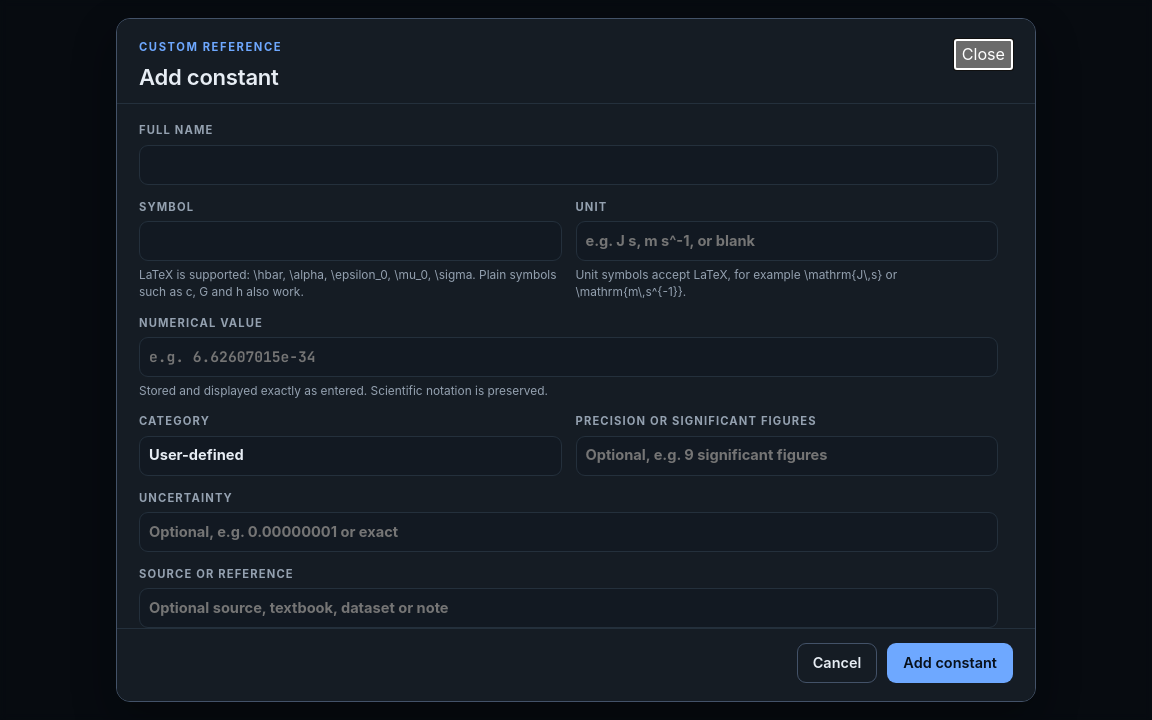
Test: ConstantEditor › maps a backend value error to the numerical value field
This screenshot has width=1152, height=720.
Type "Planck constant (local)" into the field labelled "Full name". click: point(568, 165)
box: top-left (139, 145), bottom-right (998, 185)
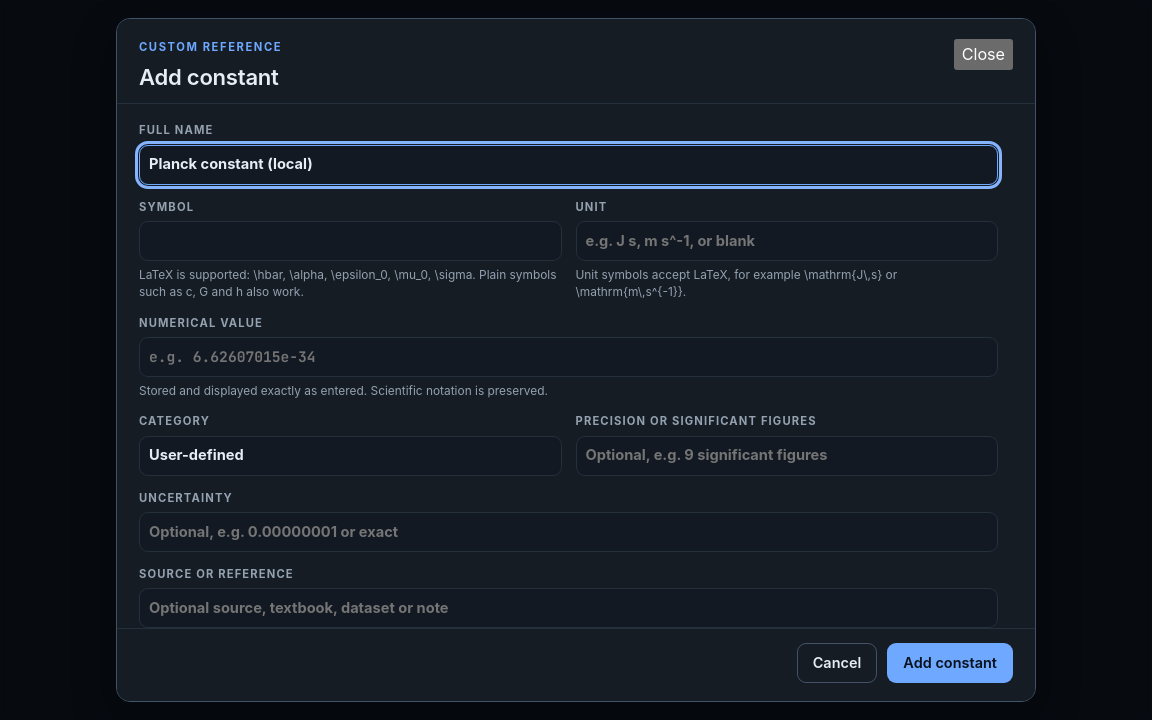
Type "h" into the field labelled "Symbol". click: point(350, 241)
box: top-left (139, 221), bottom-right (562, 261)
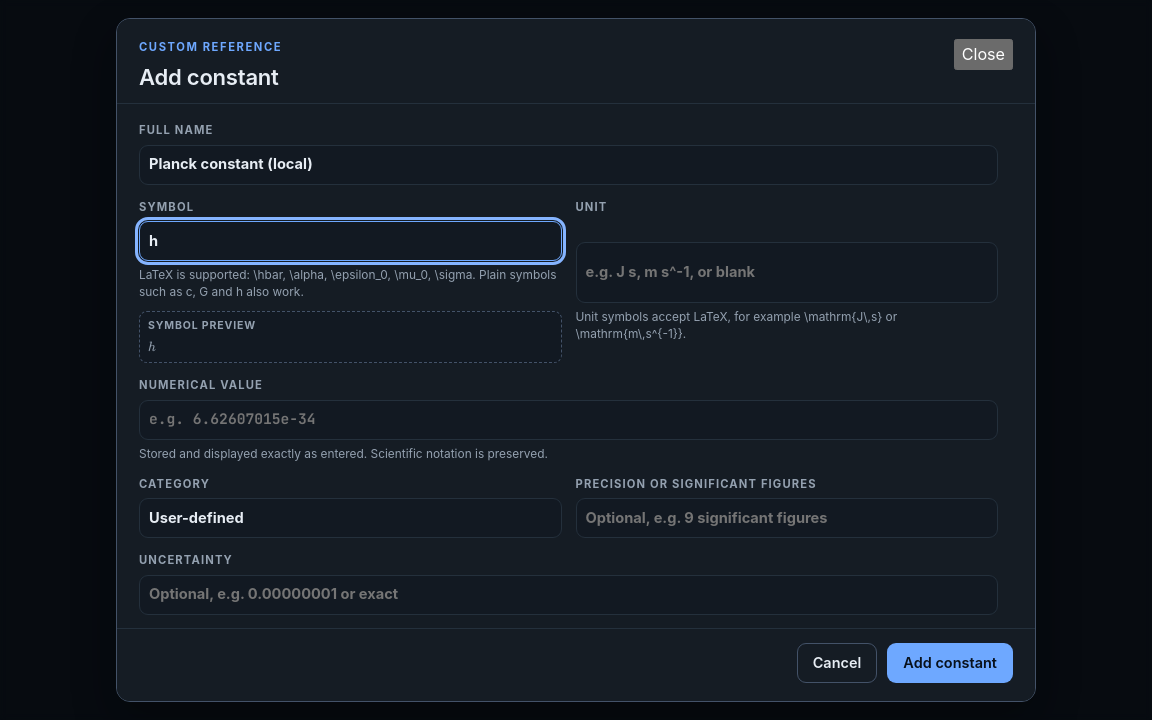
Replace the text in the field labelled "Category" with "Fundamental". click: point(350, 518)
box: top-left (139, 498), bottom-right (562, 538)
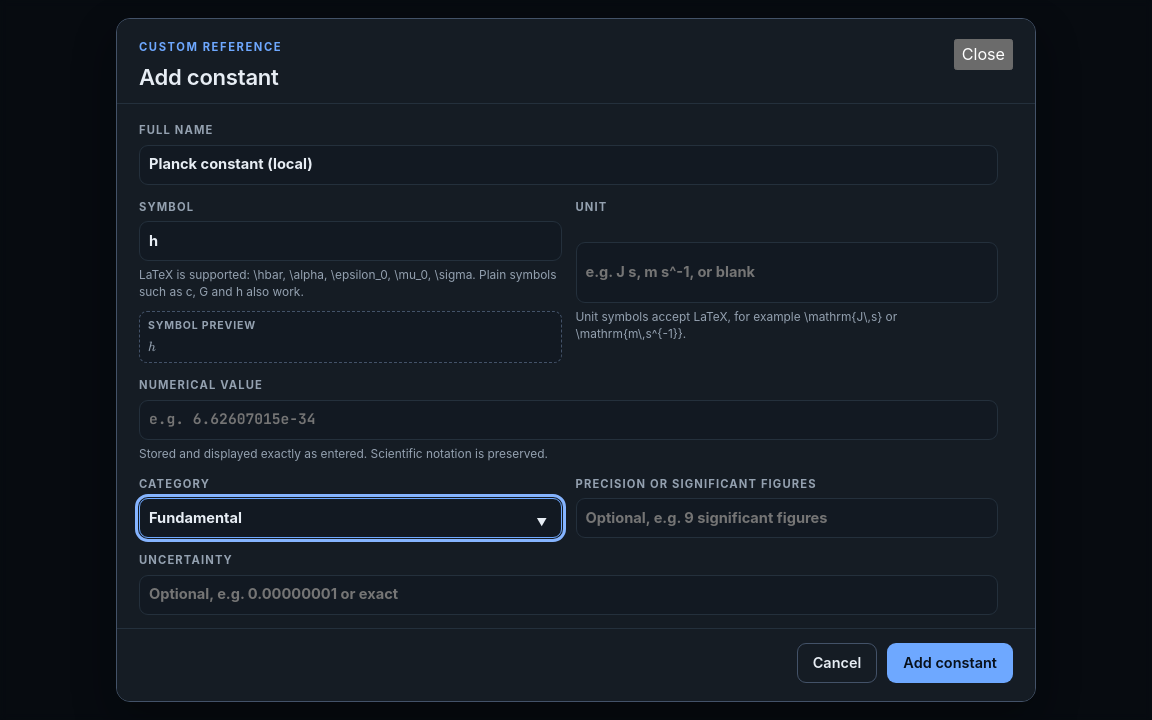
Type "6.62607015e-34" into the field labelled "Numerical value". click: point(568, 420)
box: top-left (139, 400), bottom-right (998, 440)
(page scrolled)
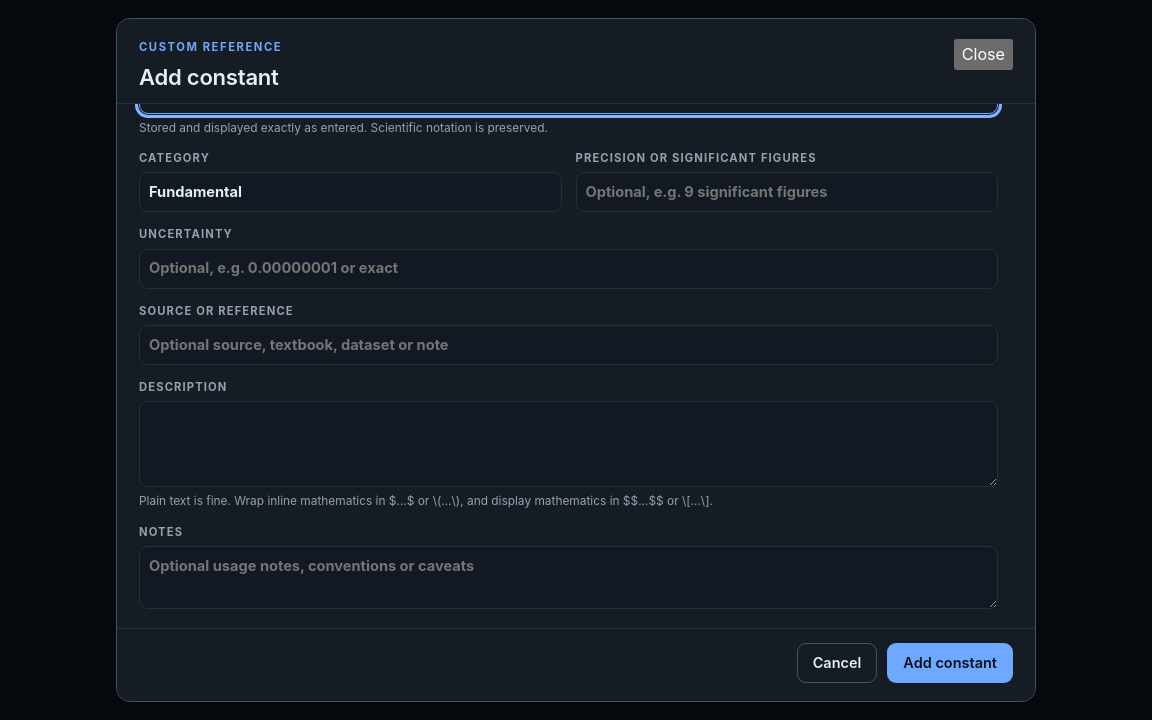
Type "Locally recorded constant." into the text box labelled "Description". click: point(568, 444)
box: top-left (139, 401), bottom-right (998, 487)
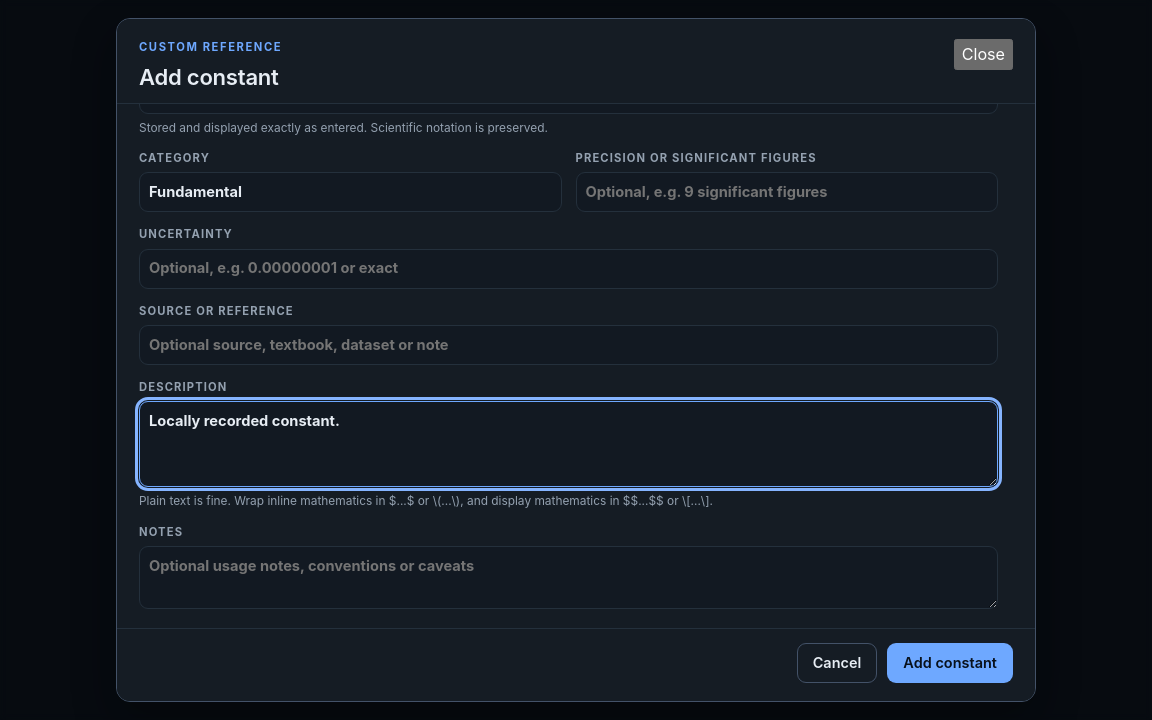
Click the button "Add constant". click: point(950, 663)
box: top-left (887, 643), bottom-right (1013, 683)
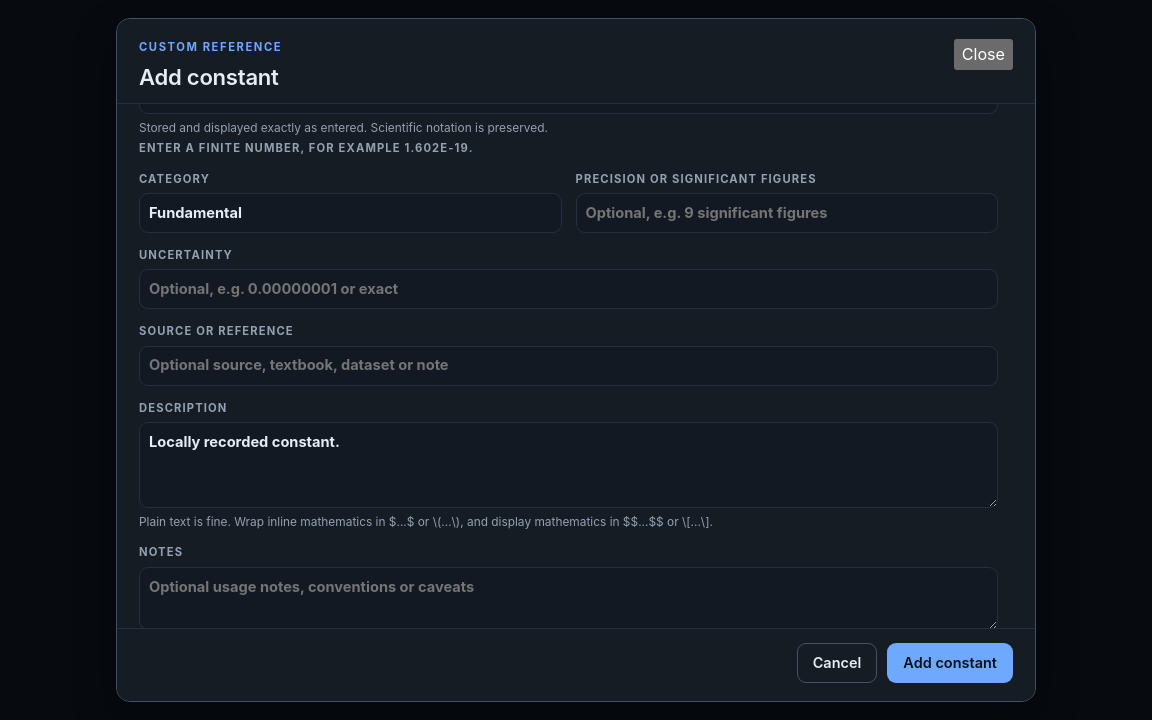
Expected: the text "Enter a finite number, for example 1.602e-19." is shown, top-left (139, 141), bottom-right (474, 155)
